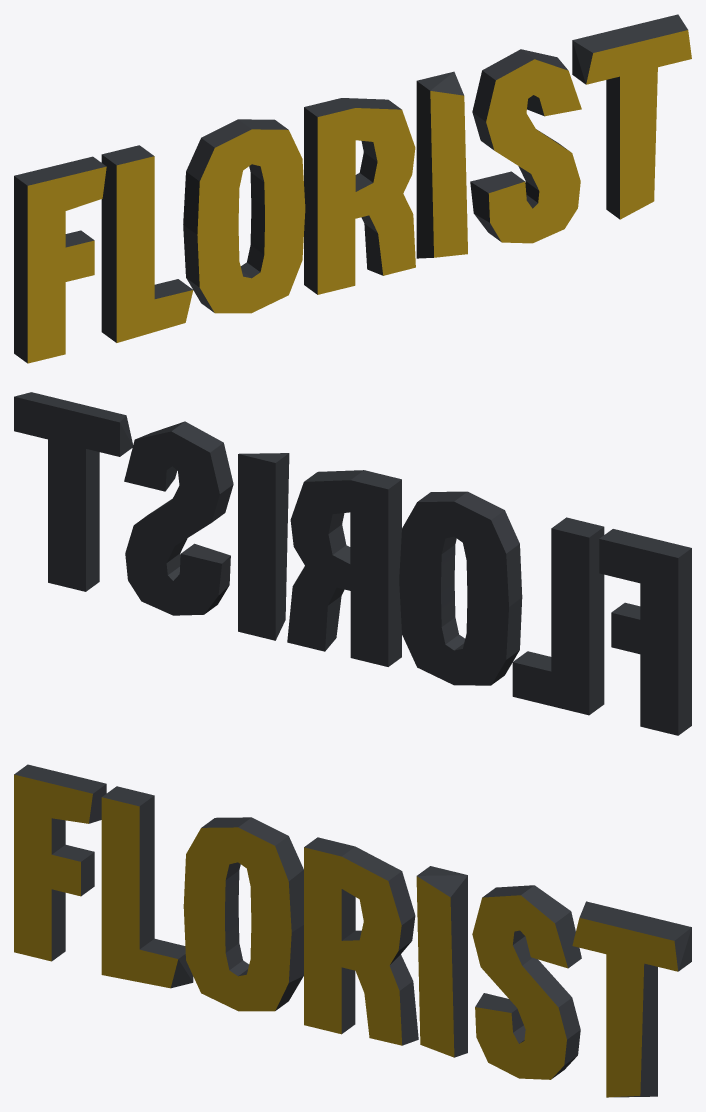
The model's file is SM_Sign_3dText_Florist_01.obj.
3 views of the same model, one above another, from view 1: azimuth 30°, elevation 25°; view 2: azimuth 150°, elevation 25°; view 3: azimuth 330°, elevation 25° (orthographic).
Parts seen in each view (by area): view 1: SM_Sign_3dText_Florist_01_0; view 2: SM_Sign_3dText_Florist_01_0; view 3: SM_Sign_3dText_Florist_01_0.
Boxes of the visible parts, x1,y1,x2,y2 form: SM_Sign_3dText_Florist_01_0: (14, 14, 691, 363); SM_Sign_3dText_Florist_01_0: (14, 392, 691, 735); SM_Sign_3dText_Florist_01_0: (14, 764, 691, 1097).
Bounding box in the file's own units: 2.79 × 0.7427 × 0.1093.
1 material, 1 textured.
